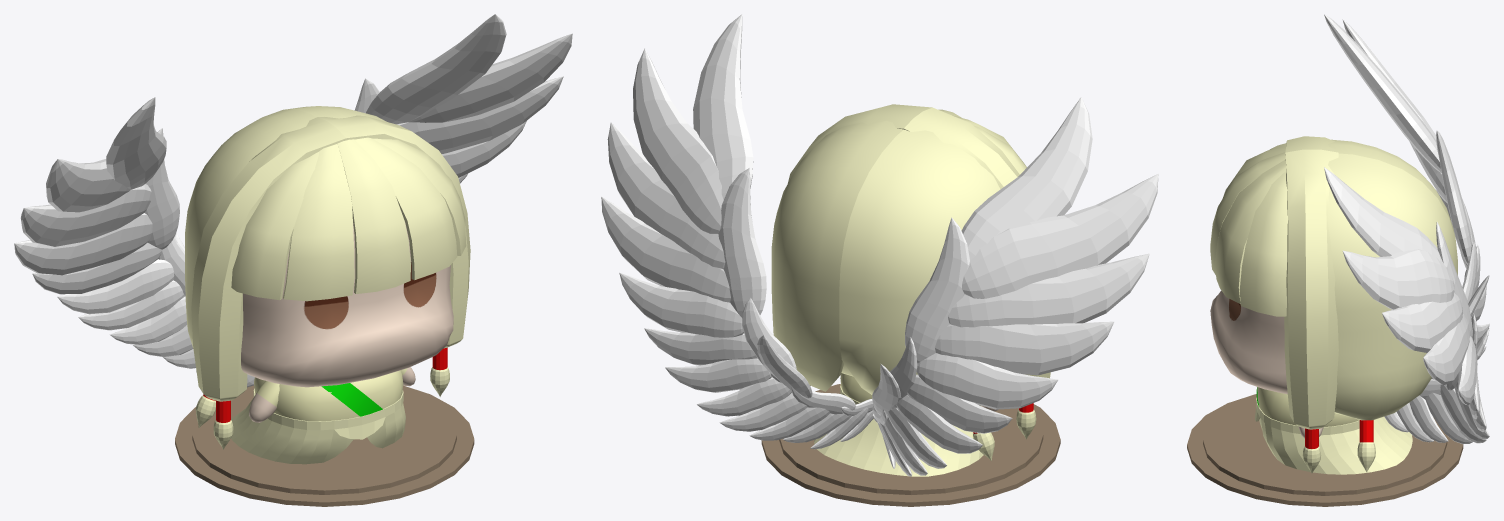
Rendered from swan.fbx.
3 renders of one model, left to right at view 1: azimuth 30°, elevation 25°; view 2: azimuth 150°, elevation 25°; view 3: azimuth 270°, elevation 25°, orthographic. The views are drawn at different scales.
Visible parts, largest first — view 1: polySurface8, base1, hair_side01, pSphere29 (×2), pSphere27 (×2), pSphere28 (×2), hair_front02, hair_front01, dress01, hair_front03, hair_front04, hair_back01 (+14 smaller); view 2: hair_back01, pSphere28 (×2), hair_back02, pSphere29 (×2), pSphere27 (×2), base1, pSphere26 (×2), pSphere25 (×2), pSphere33 (×2), pSphere24 (×2), pSphere23 (×2), dress01 (+10 smaller); view 3: hair_back02, base1, hair_side02, pSphere29 (×2), pSphere28 (×2), dress01, polySurface8, hair_front05, hair_front04, pSphere27 (×2), pSphere33 (×2), pSphere26 (+14 smaller).
Boxes of the visible parts, x1,y1,x2,y2 form: polySurface8: (241, 222, 453, 387); base1: (175, 385, 474, 506); hair_side01: (191, 117, 346, 401); pSphere29 (×2): (106, 14, 506, 189); pSphere27 (×2): (20, 76, 563, 246); pSphere28 (×2): (46, 33, 572, 212); hair_front02: (283, 144, 354, 301); hair_front01: (337, 139, 410, 293); dress01: (231, 388, 405, 464); hair_front03: (231, 152, 318, 300); hair_front04: (355, 137, 457, 280); hair_back01: (185, 109, 315, 347); hair_back01: (839, 129, 1000, 405); pSphere28 (×2): (633, 48, 1158, 298); hair_back02: (771, 121, 903, 391); pSphere29 (×2): (693, 14, 1092, 260); pSphere27 (×2): (607, 122, 1149, 327); base1: (761, 384, 1060, 506); pSphere26 (×2): (601, 196, 1113, 375); pSphere25 (×2): (619, 272, 1057, 409); pSphere33 (×2): (718, 168, 969, 363); pSphere24 (×2): (644, 328, 1012, 433); pSphere23 (×2): (665, 358, 982, 453); dress01: (814, 384, 983, 476); hair_back02: (1327, 153, 1457, 420); base1: (1187, 394, 1463, 506); hair_side02: (1284, 149, 1338, 429); pSphere29 (×2): (1324, 14, 1443, 263); pSphere28 (×2): (1342, 19, 1454, 309); dress01: (1255, 397, 1412, 474); polySurface8: (1210, 290, 1287, 393); hair_front05: (1239, 171, 1287, 316); hair_front04: (1215, 160, 1286, 303); pSphere27 (×2): (1382, 141, 1462, 352); pSphere33 (×2): (1436, 130, 1472, 338); pSphere26: (1423, 314, 1469, 384).
Size of the model in its own units: 12.49 by 8.59 by 6.58.
6 materials, 1 textured.
